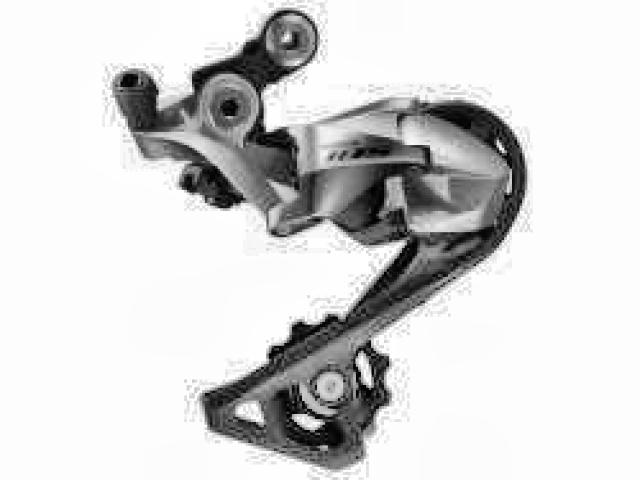rear_derailleur: (109, 9, 528, 470)
